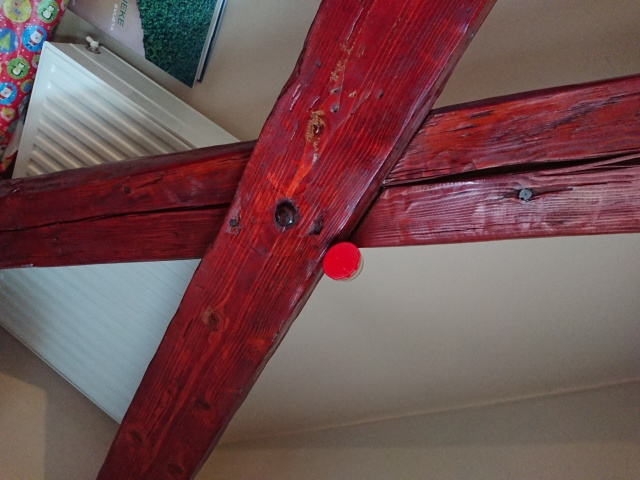Kotanyi Curry Spices Mix 70g: (320, 241, 366, 284)
